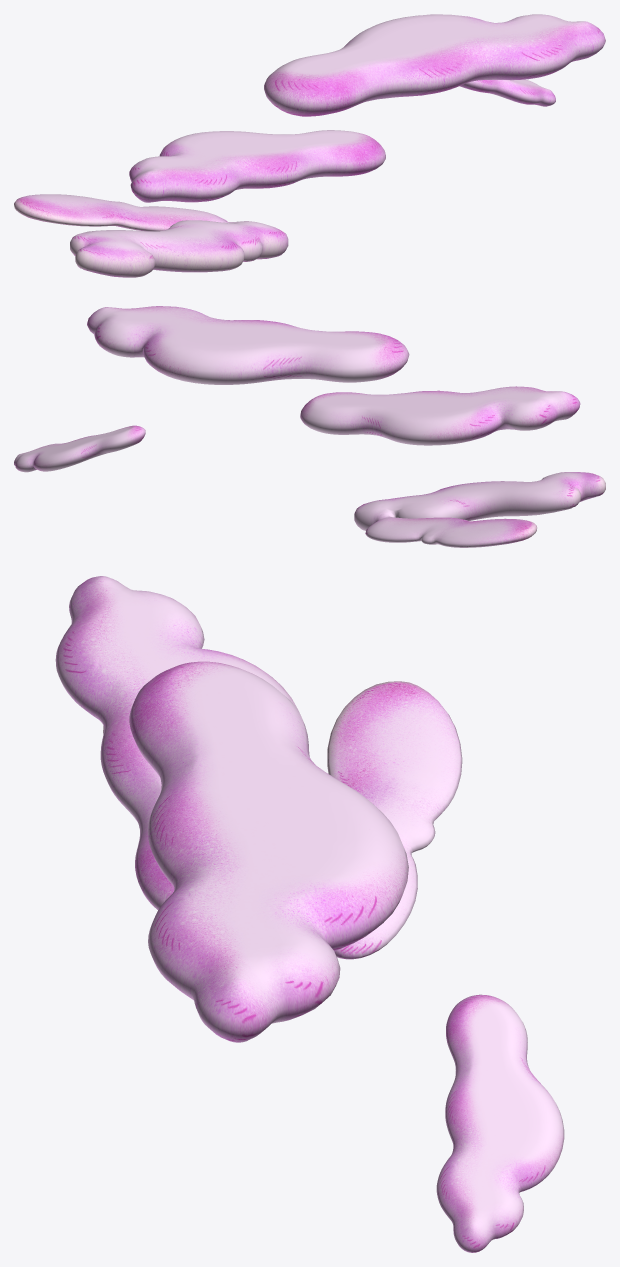
File: Cloud_Group_1.obj
The picture shows the model from 3 angles, top to bottom: view 1: azimuth 30°, elevation 25°; view 2: azimuth 150°, elevation 25°; view 3: azimuth 270°, elevation 25°; orthographic projection. The views are drawn at different scales.
Parts seen in each view (by area): view 1: Cloud_B004, Cloud_C, Cloud_B003, Cloud_B005; view 2: Cloud_B004, Cloud_B003, Cloud_C, Cloud_B005; view 3: Cloud_B004, Cloud_B005, Cloud_B003, Cloud_C.
Part boxes in pixels (bbox=[...]): Cloud_B004: bbox=[264, 14, 605, 116]; Cloud_C: bbox=[14, 194, 288, 277]; Cloud_B003: bbox=[129, 130, 385, 202]; Cloud_B005: bbox=[460, 79, 555, 106]; Cloud_B004: bbox=[87, 306, 409, 384]; Cloud_B003: bbox=[300, 386, 580, 445]; Cloud_C: bbox=[354, 472, 605, 547]; Cloud_B005: bbox=[14, 425, 145, 472]; Cloud_B004: bbox=[129, 661, 408, 1042]; Cloud_B005: bbox=[436, 994, 564, 1252]; Cloud_B003: bbox=[55, 576, 300, 909]; Cloud_C: bbox=[103, 681, 462, 959].
Bounding box in the file's own units: 2.58 × 0.8382 × 1.12.
Materials: 1 (1 with a texture image).
